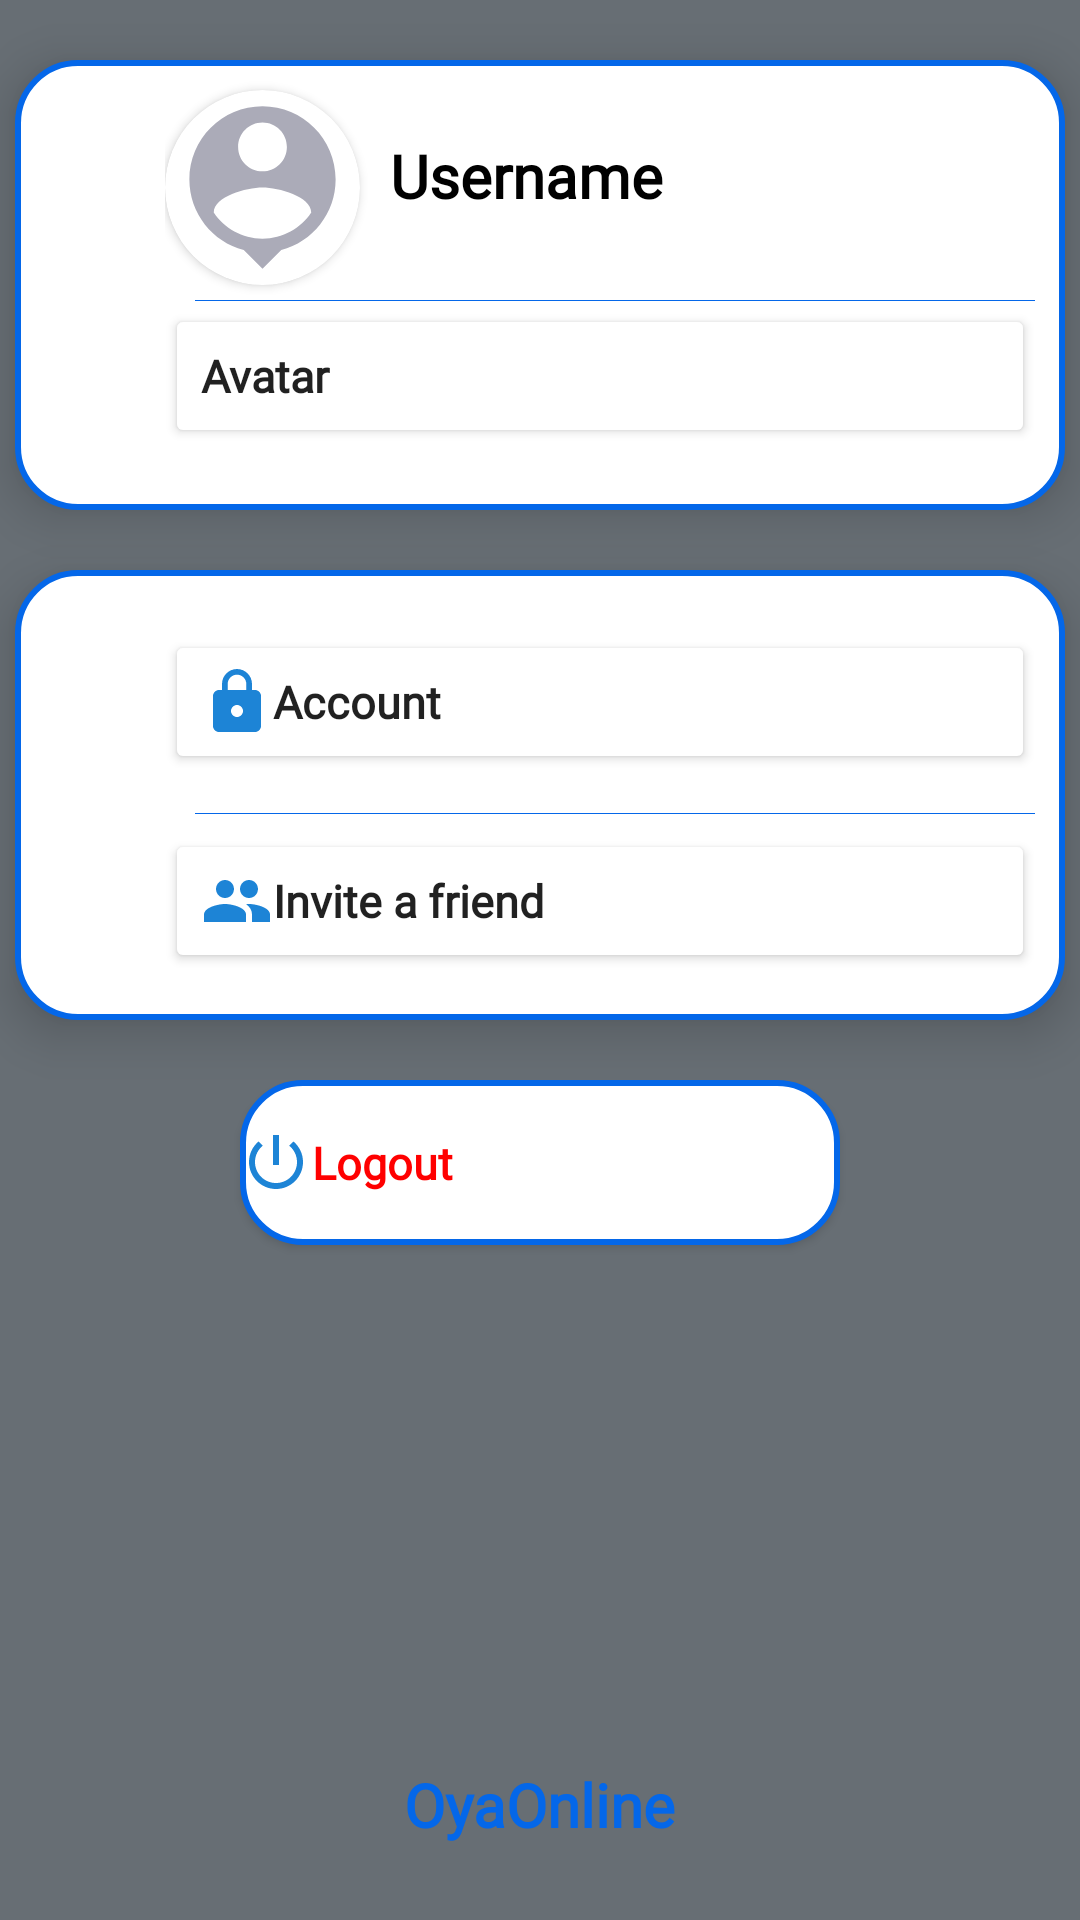

Screen size 1080×1920. Icon name, then its center in pixels as [x,y]:
defaultprfilepic: [250,194]
